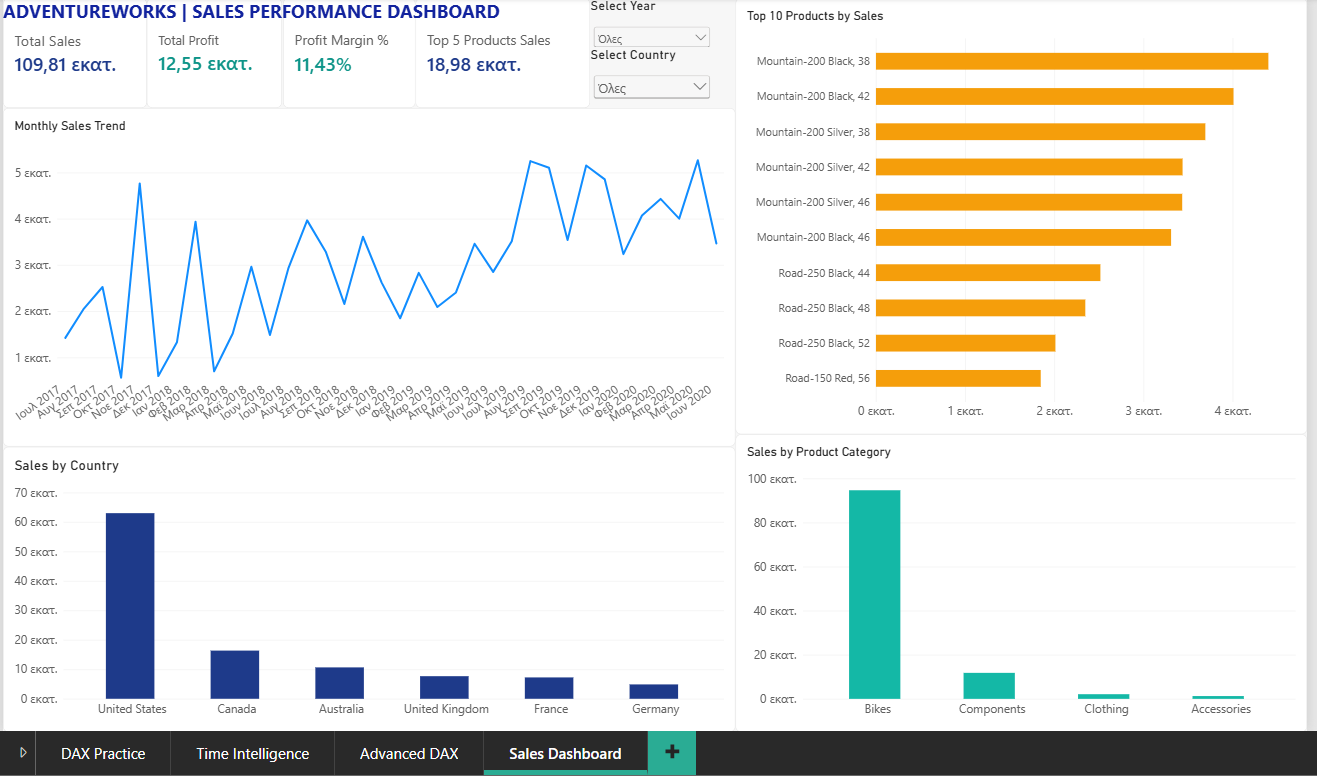

What the dashboard file says about the page in this screenshot:
{"tool":"powerbi","page":{"name":"Sales Dashboard","canvas":[1920,1080],"ordinal":3},"visuals":[{"type":"cardVisual","fields":{"Data":["Sales.Total Sales"]},"box":[0,0,212,162.6],"z":0},{"type":"cardVisual","fields":{"Data":["Sales.Total Profit"]},"box":[212,0,199.7,162.6],"z":1000},{"type":"cardVisual","fields":{"Data":["Sales.Profit Margin %"]},"box":[411.7,0,195.5,162.6],"z":2000},{"type":"cardVisual","fields":{"Data":["Sales.Top 5 Products Sales"]},"box":[607.2,0,257.3,162.6],"z":3000},{"type":"lineChart","title":"Monthly Sales Trend","fields":{"Category":["Date.Month Year Label"],"Y":["Sales.Total Sales"]},"box":[0,162.6,1078.6,498.1],"z":4000},{"type":"barChart","title":"Top 10 Products by Sales","fields":{"Category":["Product.Product"],"Y":["Sales.Total Sales"]},"box":[1078.6,0,841.9,642.2],"z":5000},{"type":"clusteredColumnChart","title":"Sales by Country","fields":{"Category":["SalesTerritory.Country"],"Y":["Sales.Total Sales"]},"box":[0,660.7,1078.6,419.9],"z":6000},{"type":"slicer","title":"Select Year","fields":{"Values":["Date.Fiscal Year"]},"box":[864.5,0,181.1,72],"z":7000},{"type":"slicer","title":"Select Country","fields":{"Values":["SalesTerritory.Country"]},"box":[864.5,72,181.1,90.6],"z":8000},{"type":"clusteredColumnChart","title":"Sales by Product Category","fields":{"Category":["Product.Category"],"Y":["Sales.Total Sales"]},"box":[1078.6,642.2,841.9,438.4],"z":9000},{"type":"textbox","box":[0,0,800.6,36.8],"z":10000}]}

Visuals, with their boxes on the page's 1920x1080 design canvas (x1, y1, x2, y2). These are canvas units, not pixel positions in the 1317x776 screenshot, which may show the page scaled, cropped or inside an application window:
cardVisual - Sales.Total Sales: [0,0,212,163]
cardVisual - Sales.Total Profit: [212,0,412,163]
cardVisual - Sales.Profit Margin %: [412,0,607,163]
cardVisual - Sales.Top 5 Products Sales: [607,0,864,163]
"Monthly Sales Trend" lineChart: [0,163,1079,661]
"Top 10 Products by Sales" barChart: [1079,0,1920,642]
"Sales by Country" clusteredColumnChart: [0,661,1079,1081]
"Select Year" slicer: [864,0,1046,72]
"Select Country" slicer: [864,72,1046,163]
"Sales by Product Category" clusteredColumnChart: [1079,642,1920,1081]
textbox: [0,0,801,37]
